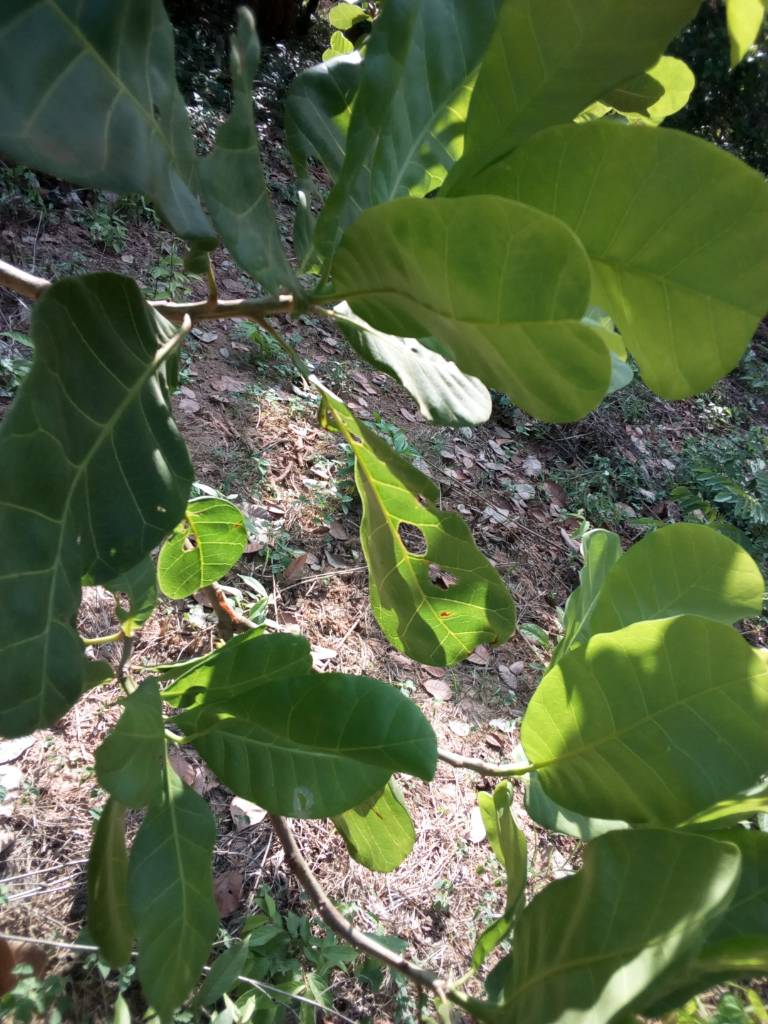Anoplonemis curvipes: (313, 381, 535, 676)
